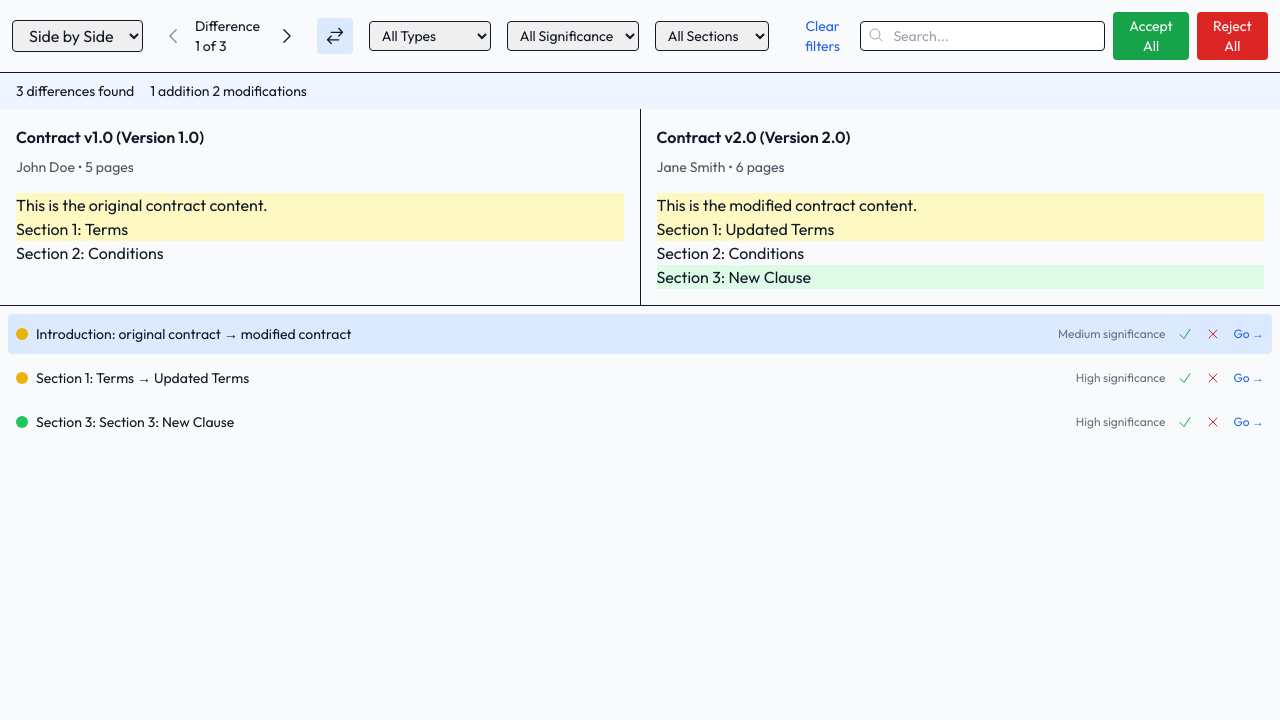
Test case: ComparisonView › View Modes › should switch to unified view
The width and height of the screenshot is (1280, 720).
Select "Unified" in the dropdown named "view mode": (78, 36) x1=12 y1=20 x2=143 y2=52
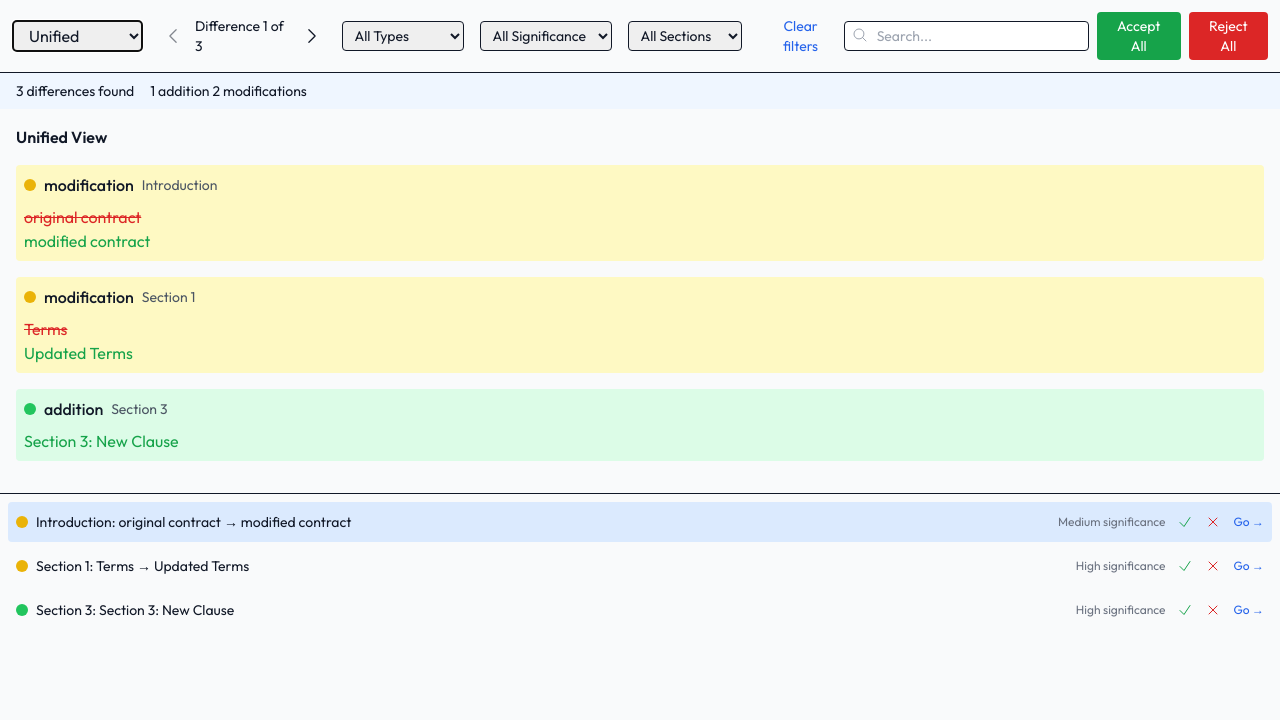
Result: the element named "unified comparison" is shown at x1=0 y1=109 x2=1279 y2=493
